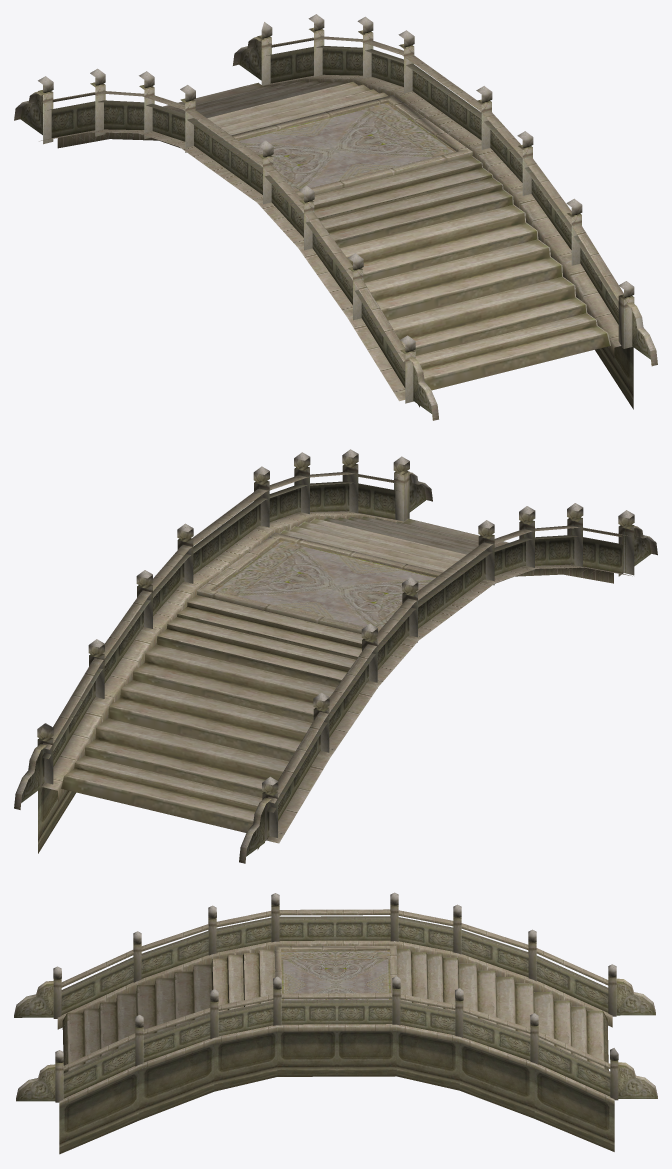
File: cj_luoyang_qiao01_56_04_5551out.fbx
3 views of the same model, one above another, from view 1: azimuth 30°, elevation 25°; view 2: azimuth 150°, elevation 25°; view 3: azimuth 270°, elevation 25° (orthographic). The views are drawn at different scales.
Parts seen in each view (by area): view 1: cj_luoyang_qiao01; view 2: cj_luoyang_qiao01; view 3: cj_luoyang_qiao01.
Boxes of the visible parts, x1=… form: cj_luoyang_qiao01: x1=14, y1=14, x2=657, y2=420; cj_luoyang_qiao01: x1=14, y1=449, x2=657, y2=863; cj_luoyang_qiao01: x1=14, y1=892, x2=657, y2=1154.
Bounding box in the file's own units: 6.02 × 5.3 × 17.74.
